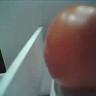tomato: (41, 0, 95, 96)
